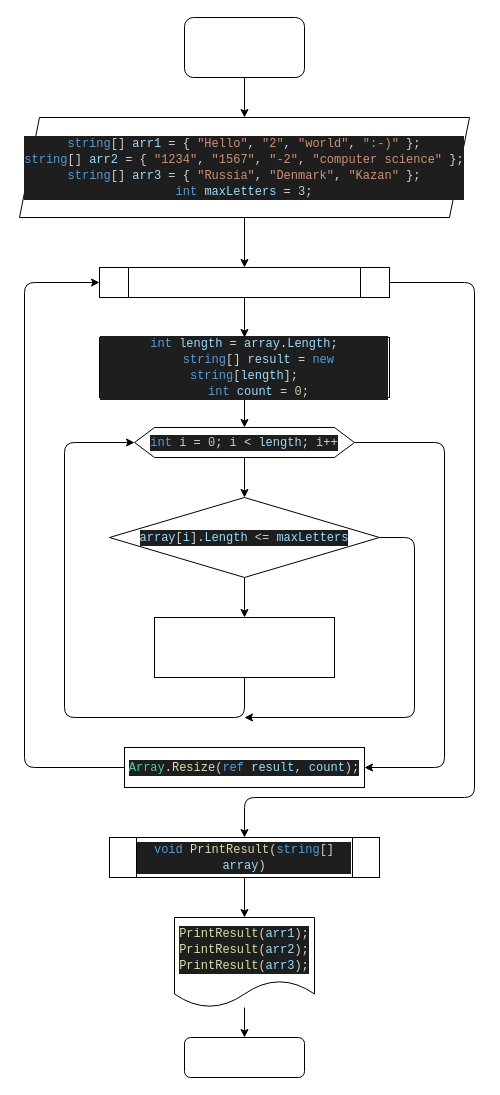
The diagram is 500 pixels wide and 1095 high, and some of its shapes have lost their labels. The shapes that lost their labels are listed below. From the top down, each one's centre as x and y in pixels, then its label:
At (x=244, y=47): "Start".
At (x=244, y=282): "string [] GetShort ( string [] array )".
At (x=244, y=647): "result [ count ] = array [ i ]; count ++;".
At (x=244, y=1057): "Finish".
